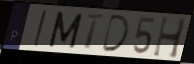5: (131, 15, 158, 56)
D: (99, 14, 131, 54)
H: (151, 15, 189, 60)
I: (32, 8, 48, 48)
M: (46, 10, 85, 50)
T: (83, 13, 106, 52)
